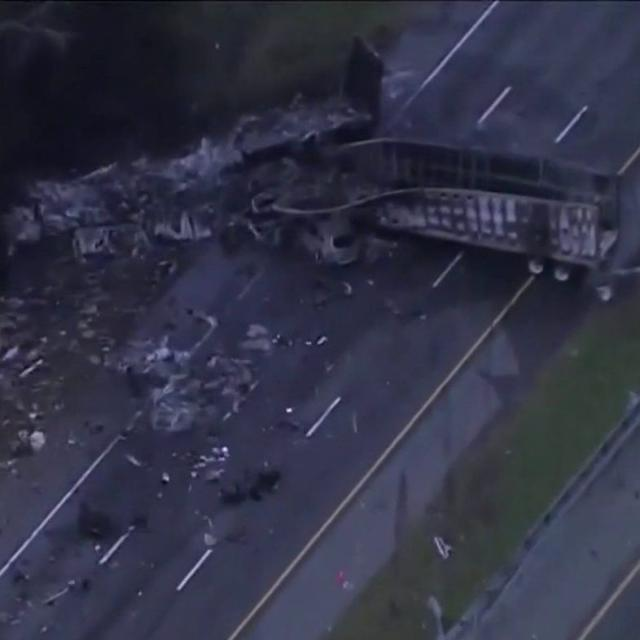traffic_incident: (218, 138, 619, 263)
